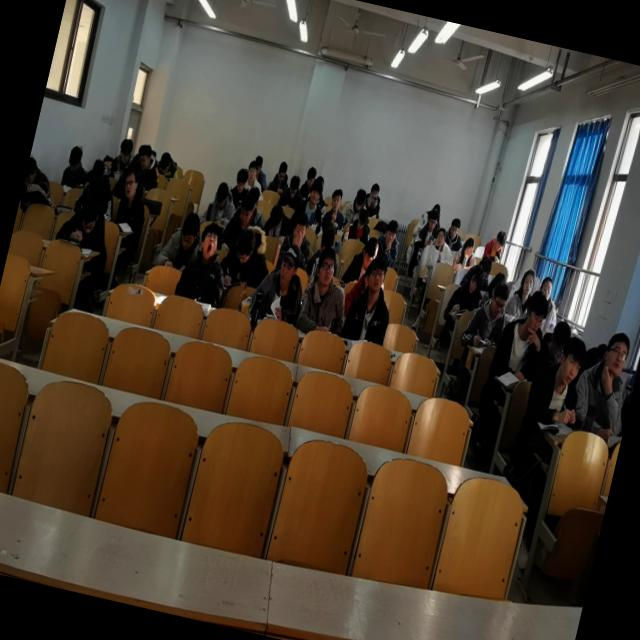bow: (54, 188, 117, 252), (21, 153, 57, 200), (261, 198, 296, 238), (155, 149, 183, 182)
down: (216, 222, 278, 292), (520, 290, 550, 340), (545, 315, 575, 363), (231, 224, 259, 268), (175, 211, 202, 256), (76, 196, 103, 235), (358, 234, 382, 274), (487, 281, 511, 319), (235, 190, 258, 227), (465, 264, 486, 296), (212, 179, 232, 210), (116, 135, 136, 165), (266, 202, 286, 232), (22, 157, 40, 190), (88, 156, 106, 188), (136, 142, 154, 173), (65, 145, 84, 174), (460, 235, 477, 262), (286, 173, 302, 200), (158, 150, 174, 176), (354, 206, 370, 232), (352, 188, 368, 214), (274, 160, 288, 185), (492, 230, 507, 253), (304, 166, 318, 190)
lookup: (289, 177, 330, 231), (552, 332, 588, 388), (600, 328, 634, 378), (311, 244, 341, 290), (274, 241, 302, 288), (196, 218, 224, 263), (362, 252, 391, 294), (120, 165, 142, 198), (290, 213, 310, 245), (536, 272, 556, 302), (518, 268, 538, 296), (232, 166, 250, 195), (306, 178, 324, 206), (381, 218, 399, 246), (328, 185, 345, 213), (424, 208, 440, 233), (246, 158, 260, 184), (446, 218, 462, 240), (433, 226, 448, 248), (367, 182, 381, 203)
sit: (567, 322, 640, 439), (521, 324, 594, 432), (487, 284, 554, 387), (294, 243, 360, 339), (338, 250, 402, 347), (249, 236, 314, 328), (174, 217, 237, 305), (458, 273, 514, 353), (156, 207, 207, 272), (274, 207, 318, 273), (217, 188, 259, 257), (112, 165, 154, 232), (443, 260, 488, 322), (340, 229, 382, 289), (502, 264, 540, 323), (531, 272, 566, 332), (200, 177, 242, 227), (131, 142, 165, 192), (372, 215, 404, 267), (60, 144, 92, 192), (319, 186, 350, 235), (106, 133, 139, 178), (342, 202, 376, 245), (425, 224, 459, 266), (413, 203, 443, 249), (339, 185, 369, 230), (450, 234, 481, 274), (277, 170, 308, 210), (226, 166, 252, 210), (266, 156, 294, 194), (442, 214, 468, 251), (481, 228, 506, 265), (243, 159, 268, 195), (361, 182, 385, 218), (297, 163, 319, 199), (249, 154, 272, 188)
